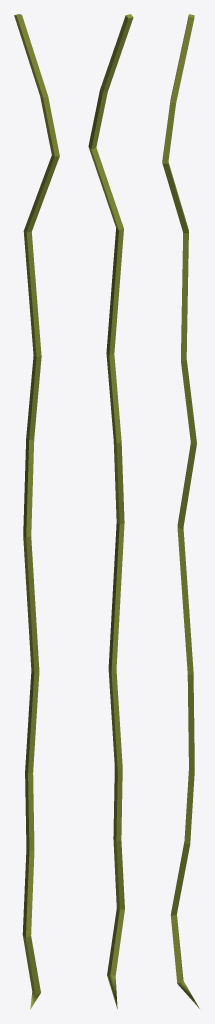
File: Liana3.FBX
3 views of the same model, side by side, from view 1: azimuth 30°, elevation 25°; view 2: azimuth 210°, elevation 25°; view 3: azimuth 270°, elevation 25° (orthographic).
Visible parts, largest first — view 1: Liana3; view 2: Liana3; view 3: Liana3.
Part boxes in pixels (<box>): Liana3: <box>14,14,59,1009</box>; Liana3: <box>88,14,133,1008</box>; Liana3: <box>162,14,199,1008</box>.
Bounding box in the file's own units: 0.3611 × 11.59 × 0.4062.
